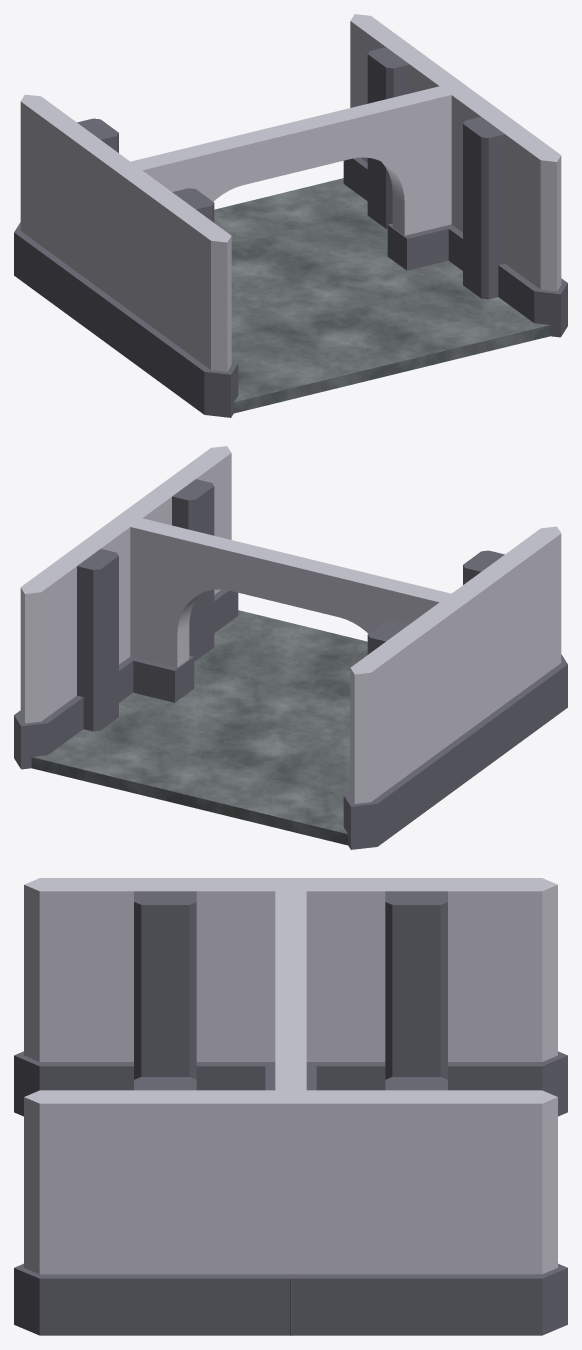
File: hallway_04.fbx
3 views of the same model, one above another, from view 1: azimuth 30°, elevation 25°; view 2: azimuth 150°, elevation 25°; view 3: azimuth 270°, elevation 25° (orthographic). The views are drawn at different scales.
Parts seen in each view (by area): view 1: floor_01_11, wall_02_13, arch_02_19, wall_02_15, wall_02_12, wall_02_14; view 2: floor_01_11, wall_02_12, arch_02_19, wall_02_14, wall_02_13, wall_02_15; view 3: wall_02_14, wall_02_15, wall_02_12, wall_02_13, arch_02_19.
Part boxes in pixels (x1,y1,x2,y2): floor_01_11: [214, 178, 550, 413]; wall_02_13: [109, 165, 238, 417]; arch_02_19: [110, 84, 465, 301]; wall_02_15: [445, 84, 567, 337]; wall_02_12: [14, 94, 135, 344]; wall_02_14: [343, 14, 465, 228]; floor_01_11: [31, 610, 367, 845]; wall_02_12: [343, 596, 472, 849]; arch_02_19: [116, 516, 471, 732]; wall_02_14: [14, 516, 136, 769]; wall_02_13: [446, 526, 567, 776]; wall_02_15: [116, 446, 238, 660]; wall_02_14: [276, 1077, 567, 1335]; wall_02_15: [14, 1077, 304, 1335]; wall_02_12: [275, 878, 567, 1116]; wall_02_13: [14, 878, 305, 1116]; arch_02_19: [265, 878, 316, 1335].
Size of the model in its own units: 22.08 by 10 by 22.05.
